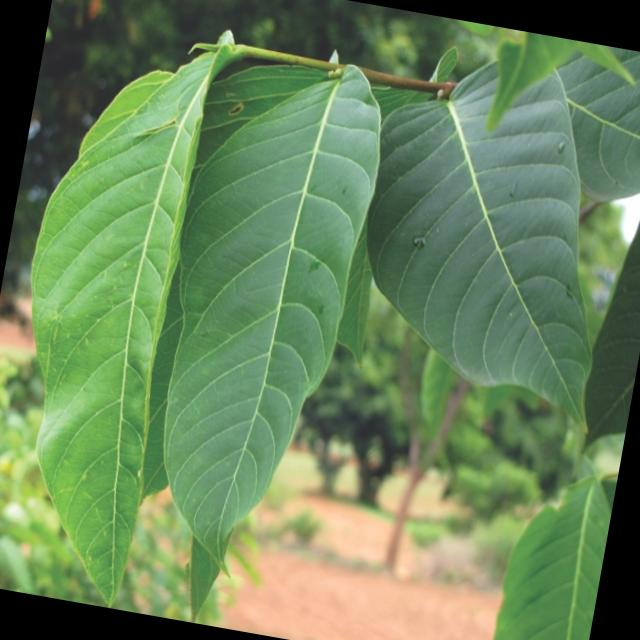Kutaja: (34, 2, 637, 574), (314, 42, 640, 542), (0, 3, 228, 594), (140, 77, 381, 598)
